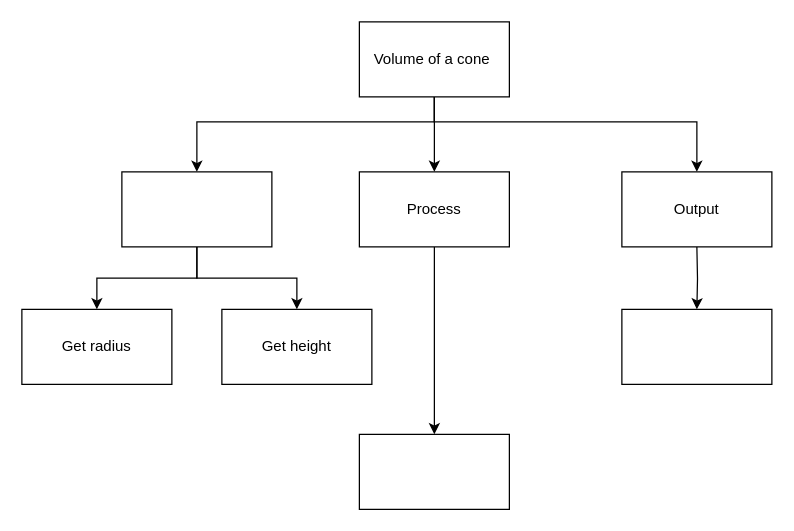
Image size: 794x531. Some labels were removed from this diagram. The shapes that lost their labels are listed below. From the top down, each one's centre as x and y in pixels, then its label:
At (x=196, y=209): "Input".
At (x=696, y=346): "Show volume".
At (x=433, y=471): "Volume = 1/3 * π * radius 2 * height".
